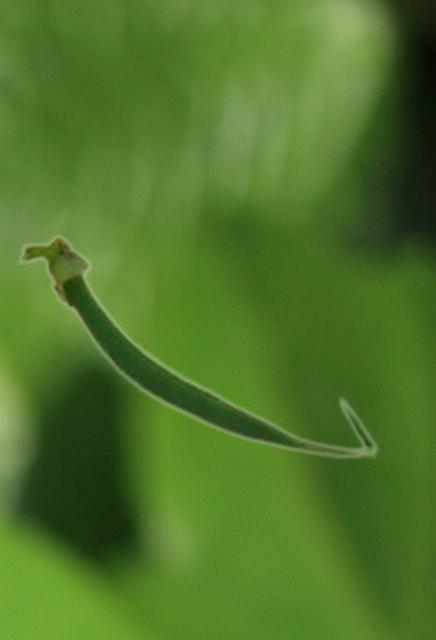french_bean: (15, 231, 379, 460)
